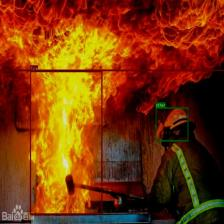fire: (0, 0, 224, 71), (30, 70, 102, 215)
